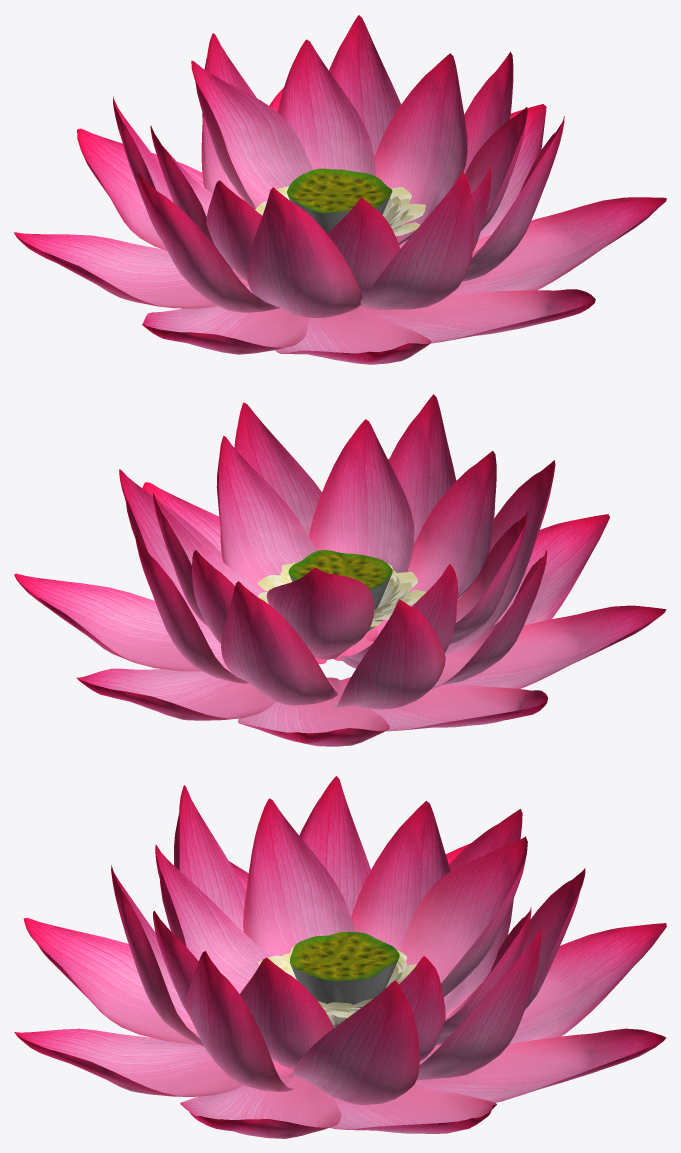
Rendered from lianwen.obj.
3 renders of one model, top to bottom at view 1: azimuth 30°, elevation 25°; view 2: azimuth 150°, elevation 25°; view 3: azimuth 270°, elevation 25°, orthographic. The views are drawn at different scales.
Visible parts, largest first — view 1: objob678, objob690, objob676, objob684, objob296, objob694, objob677, objob100, objob298, objob299, objob687, objob679 (+13 smaller); view 2: objob686, objob683, objob680, objob681, objob691, objob298, objob696, objob682, objob676, objob694, objob296, objob102 (+12 smaller); view 3: objob676, objob692, objob301, objob100, objob682, objob102, objob687, objob300, objob685, objob679, objob684, objob691 (+12 smaller).
Boxes of the visible parts, bbox=[...] form: objob678: bbox=[374, 53, 467, 245]; objob690: bbox=[247, 187, 362, 317]; objob676: bbox=[191, 60, 312, 216]; objob684: bbox=[452, 197, 666, 293]; objob296: bbox=[360, 172, 473, 309]; objob694: bbox=[14, 232, 252, 308]; objob677: bbox=[277, 39, 375, 176]; objob100: bbox=[365, 289, 595, 343]; objob298: bbox=[142, 304, 308, 354]; objob299: bbox=[137, 172, 280, 312]; objob687: bbox=[275, 306, 431, 364]; objob679: bbox=[329, 15, 400, 155]; objob686: bbox=[309, 419, 414, 572]; objob683: bbox=[216, 436, 317, 591]; objob680: bbox=[221, 581, 337, 705]; objob681: bbox=[14, 573, 327, 671]; objob691: bbox=[376, 451, 496, 637]; objob298: bbox=[446, 605, 666, 688]; objob696: bbox=[332, 599, 445, 709]; objob682: bbox=[76, 668, 275, 720]; objob676: bbox=[266, 567, 374, 659]; objob694: bbox=[340, 677, 547, 731]; objob296: bbox=[365, 394, 456, 641]; objob102: bbox=[238, 677, 389, 746]; objob676: bbox=[400, 836, 527, 996]; objob692: bbox=[243, 798, 355, 956]; objob301: bbox=[291, 980, 419, 1105]; objob100: bbox=[14, 1028, 243, 1096]; objob682: bbox=[414, 1028, 665, 1102]; objob102: bbox=[509, 923, 666, 1043]; objob687: bbox=[23, 917, 198, 1044]; objob300: bbox=[351, 801, 450, 950]; objob685: bbox=[186, 951, 298, 1091]; objob679: bbox=[416, 929, 541, 1080]; objob684: bbox=[180, 1077, 341, 1138]; objob691: bbox=[155, 844, 269, 993].
Bounding box in the file's own units: 1.08 × 0.381 × 1.08.
